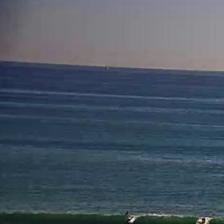surfer: (127, 217, 134, 223), (200, 217, 206, 222), (124, 211, 129, 216)
